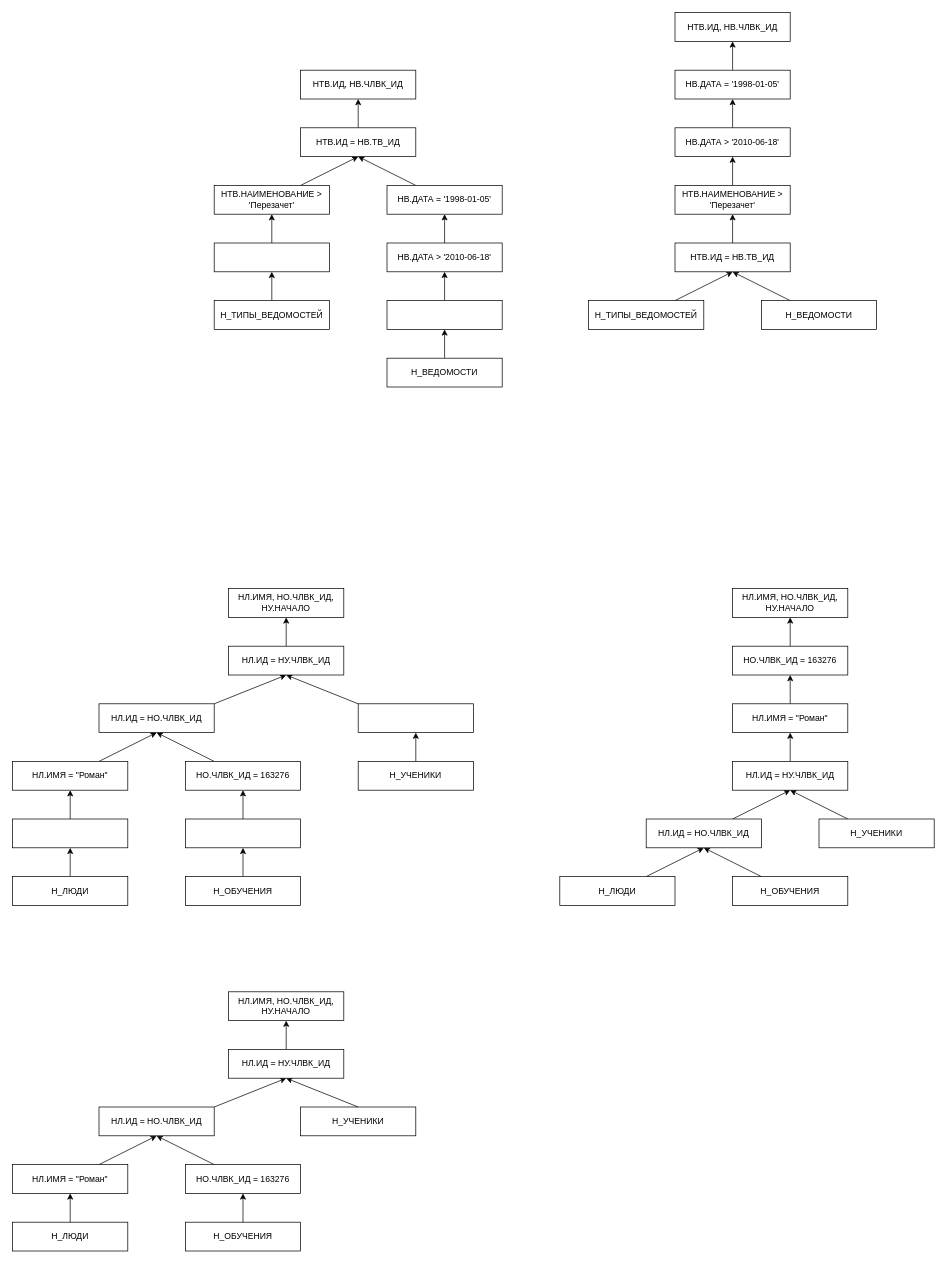
Some shapes in this 947 by 1264 pixel diagram are drawn without their labels. Each missing label, with the centre of its shape:
"НВ.ДАТА, НВ.ТВ_ИД" belongs at (x=444, y=314).
"НЛ.ИМЯ, НЛ.ИД" belongs at (x=70, y=833).
"НО.ЧЛВК_ИД" belongs at (x=243, y=833).
"НТВ.НАИМЕНОВАНИЕ, НТВ.ИД" belongs at (x=271, y=257).
"НУ.ЧЛВК_ИД, НУ.НАЧАЛО" belongs at (x=415, y=718).
